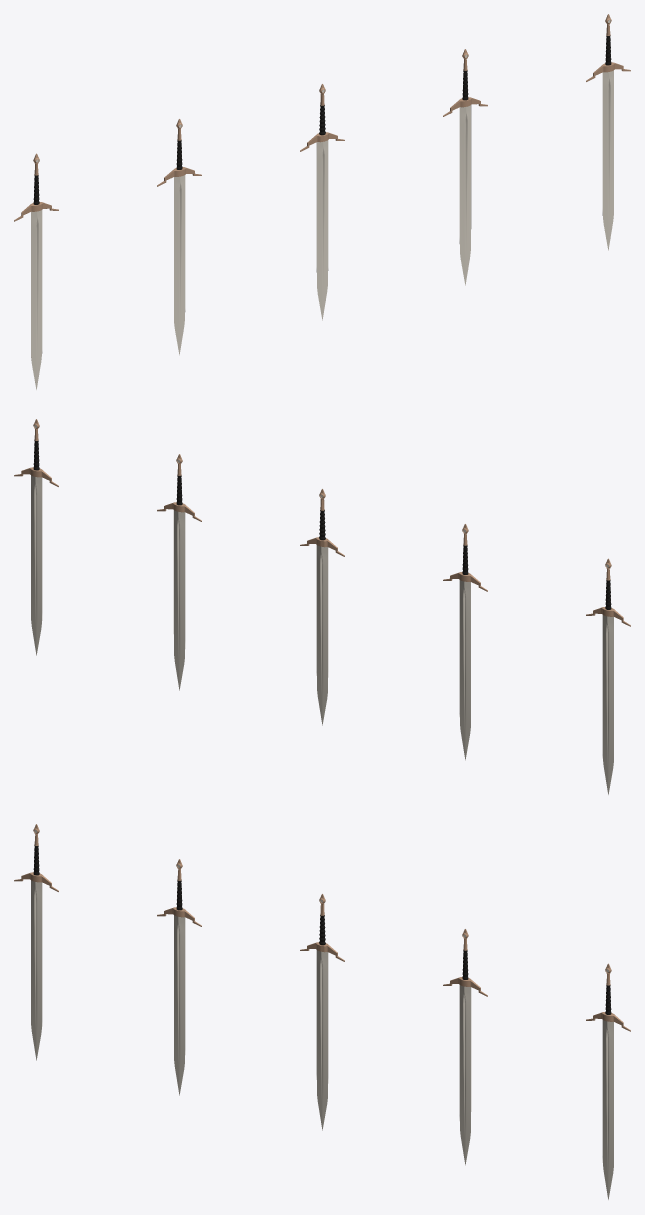
File: PaulSword.fbx
3 views of the same model, one above another, from view 1: azimuth 30°, elevation 25°; view 2: azimuth 150°, elevation 25°; view 3: azimuth 330°, elevation 25° (orthographic).
Visible parts, largest first — view 1: Cube.001, Cube.003, Cube.008, Cube.006, Cube.002; view 2: Cube.001, Cube.003, Cube.008, Cube.006, Cube.002; view 3: Cube.001, Cube.003, Cube.008, Cube.006, Cube.002.
Part boxes in pixels (x1,y1,x2,y2): Cube.001: [300, 84, 344, 320]; Cube.003: [459, 105, 471, 285]; Cube.008: [31, 210, 42, 389]; Cube.006: [602, 70, 613, 250]; Cube.002: [174, 175, 185, 355]; Cube.001: [300, 489, 344, 725]; Cube.003: [173, 510, 185, 690]; Cube.008: [602, 615, 613, 794]; Cube.006: [31, 475, 42, 655]; Cube.002: [459, 580, 470, 760]; Cube.001: [300, 894, 344, 1130]; Cube.003: [459, 985, 471, 1165]; Cube.008: [31, 880, 42, 1060]; Cube.006: [602, 1020, 613, 1199]; Cube.002: [174, 915, 185, 1095].
Bounding box in the file's own units: 431 × 159 × 4.96.
